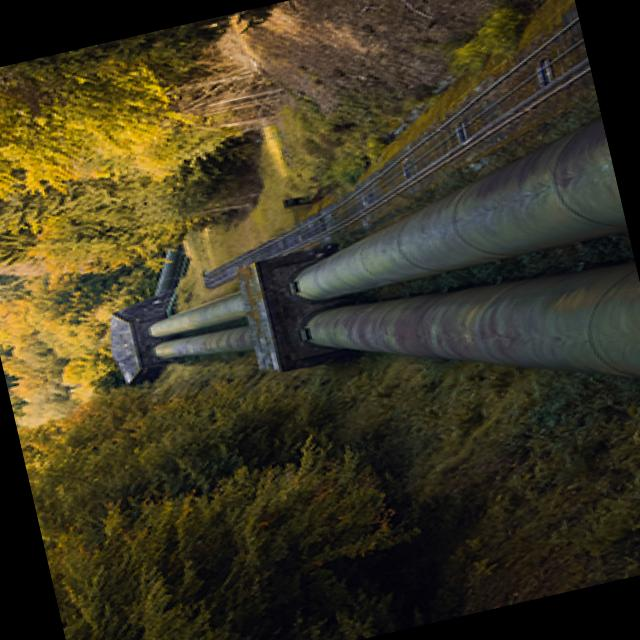gas: (392, 114, 630, 286), (453, 243, 640, 428), (294, 274, 480, 402), (279, 222, 419, 315), (132, 284, 270, 344), (142, 321, 268, 382)
